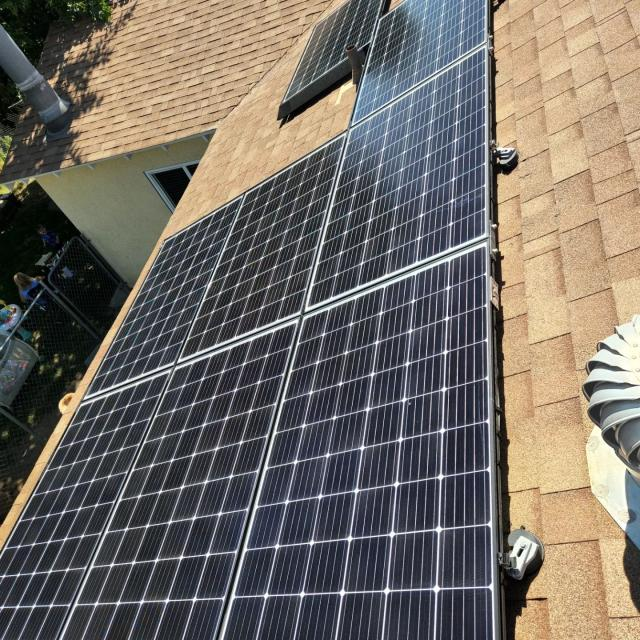clean-solar-panel: (2, 48, 499, 640)
